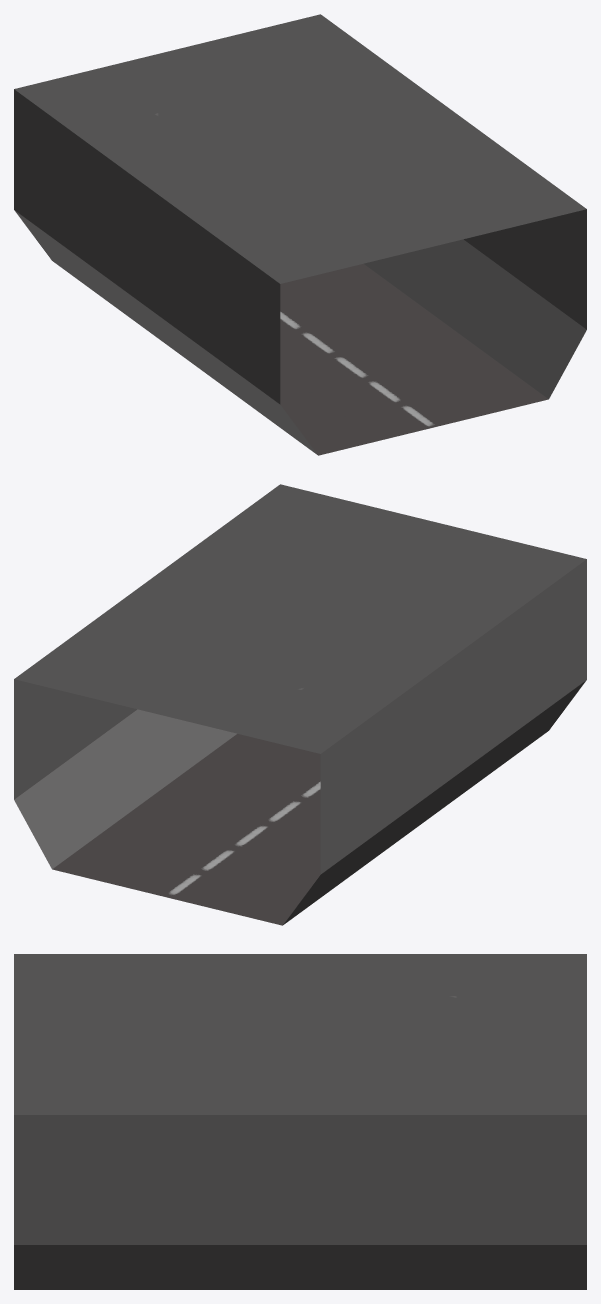
File: rechttunnel.fbx
The picture shows the model from 3 angles, top to bottom: view 1: azimuth 30°, elevation 25°; view 2: azimuth 150°, elevation 25°; view 3: azimuth 270°, elevation 25°; orthographic projection. The views are drawn at different scales.
Visible parts, largest first — view 1: rechttunnel; view 2: rechttunnel; view 3: rechttunnel.
Part boxes in pixels (box(x1,y1,x2,y2)): rechttunnel: box(14, 14, 586, 455); rechttunnel: box(14, 484, 586, 925); rechttunnel: box(14, 954, 586, 1289).
Bounding box in the file's own units: 15.22 × 8.58 × 22.89.
